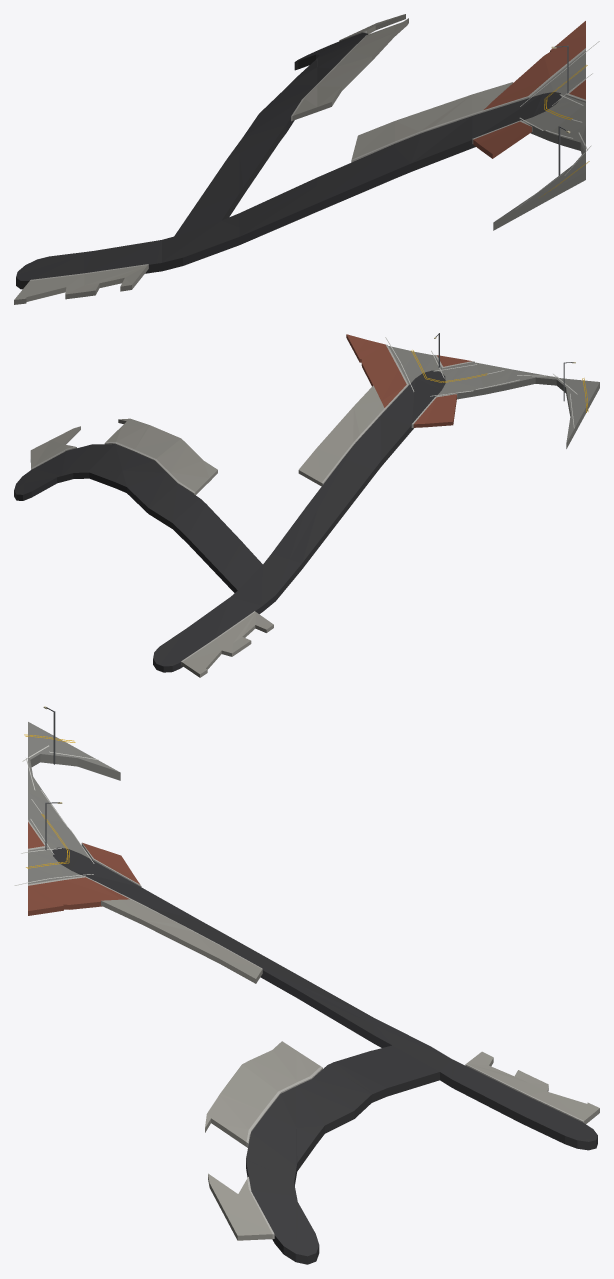
3 views of the same model, one above another, from view 1: azimuth 90°, elevation 25°; view 2: azimuth 150°, elevation 25°; view 3: azimuth 270°, elevation 25° (orthographic). The views are drawn at different scales.
Size of the model in its own units: 102 by 42.05 by 75.49.
